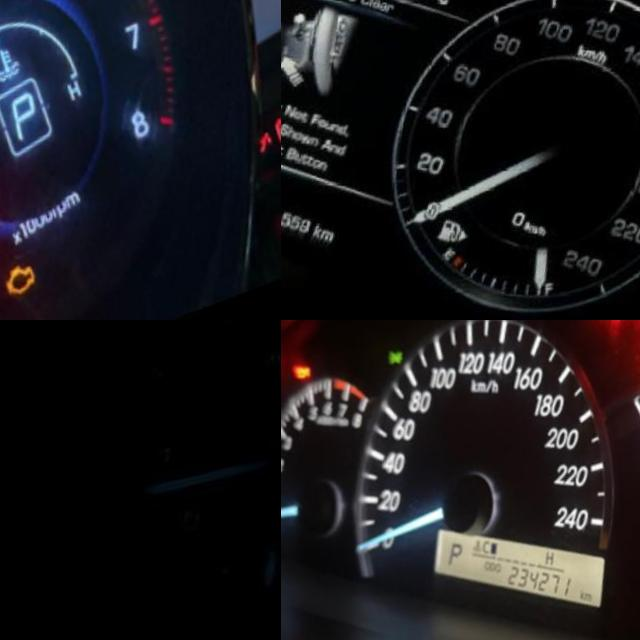Doors: (601, 320, 628, 335)
Low fuel level: (419, 222, 460, 269)
